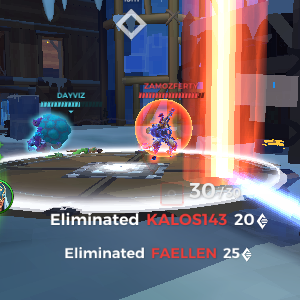model: (144, 104, 184, 166)
